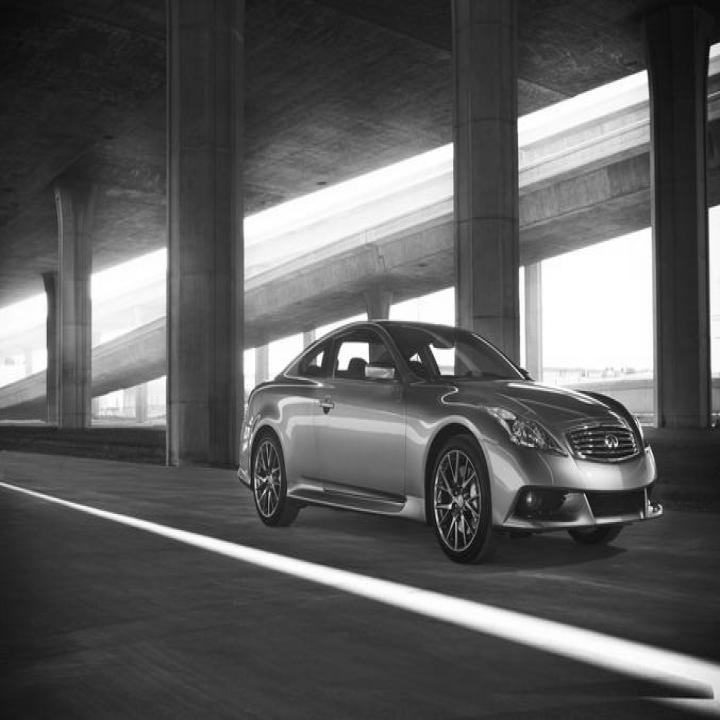car: (236, 318, 664, 564)
